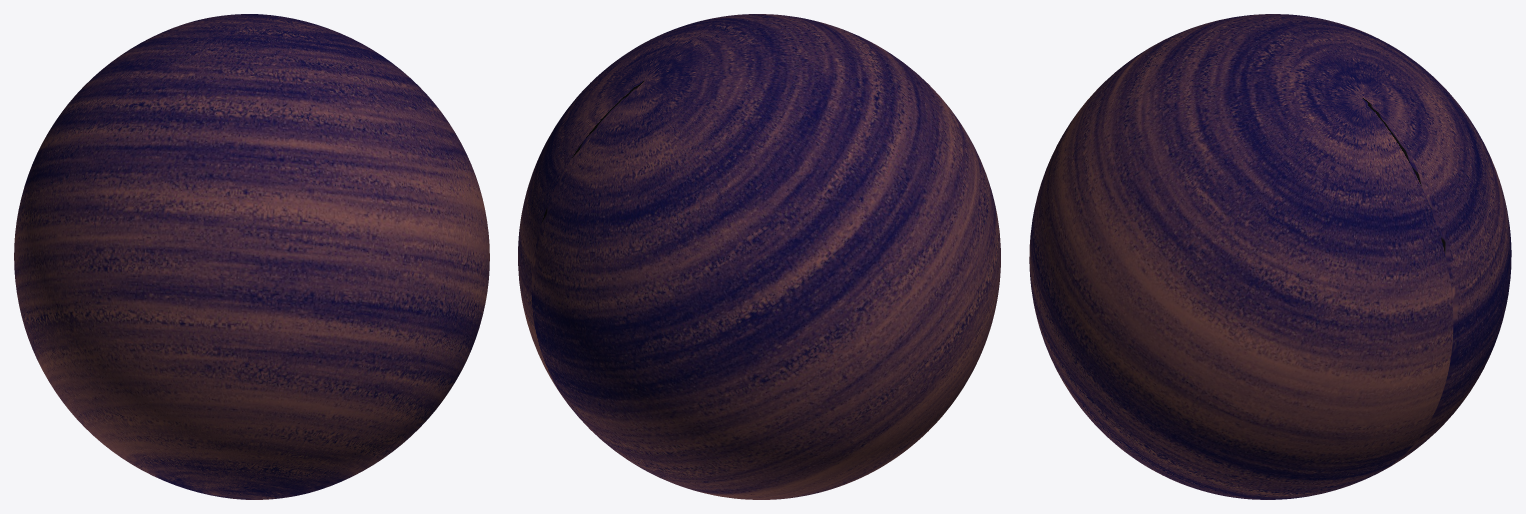
Rendered from planeta_morado.obj.
3 renders of one model, left to right at view 1: azimuth 30°, elevation 25°; view 2: azimuth 150°, elevation 25°; view 3: azimuth 270°, elevation 25°, orthographic.
Parts seen in each view (by area): view 1: planeta_morado; view 2: planeta_morado; view 3: planeta_morado.
Part boxes in pixels (left/top/right/bottom): planeta_morado: left=14, top=14, right=489, bottom=499; planeta_morado: left=518, top=14, right=1000, bottom=499; planeta_morado: left=1029, top=14, right=1511, bottom=499.
Bounding box in the file's own units: 1.95 × 1.98 × 1.95.
1 material, 1 textured.
